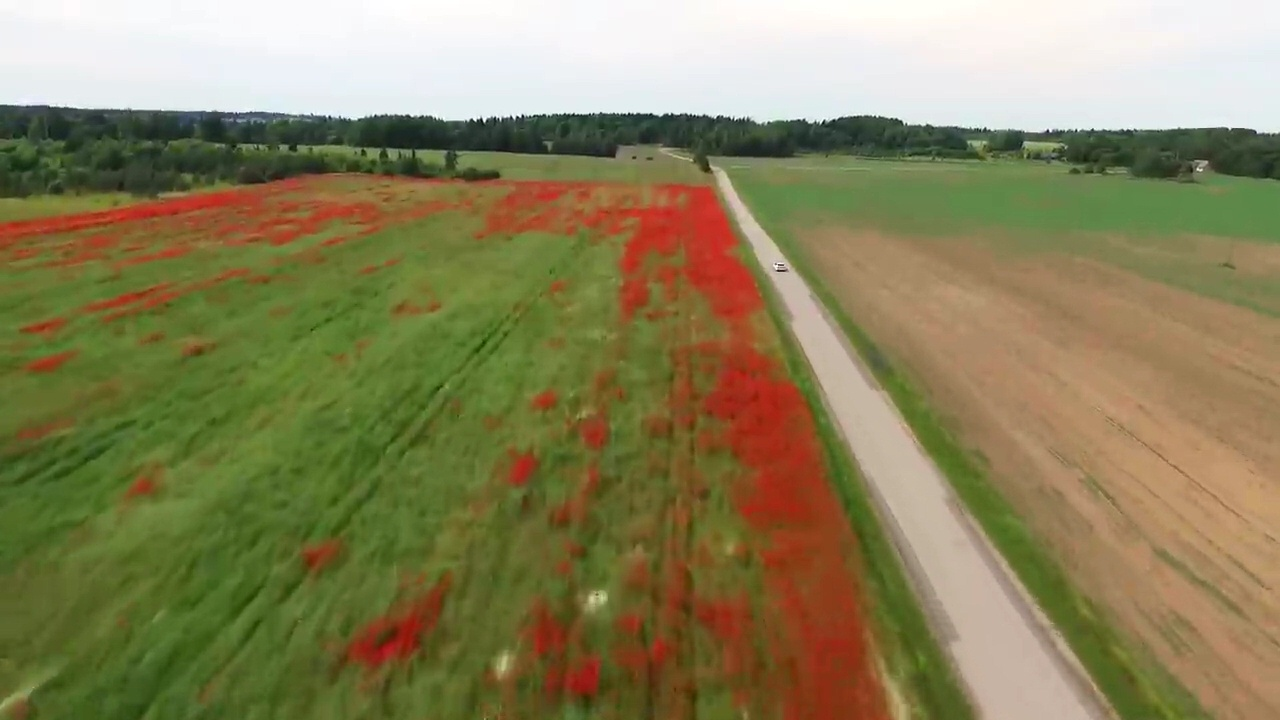araba: (772, 261, 787, 272)
